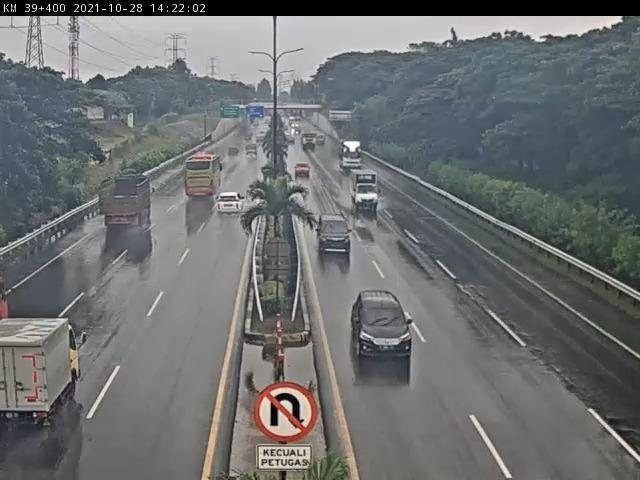bus: (184, 156, 224, 203)
car: (350, 288, 417, 362), (317, 213, 354, 254), (213, 193, 246, 218), (293, 160, 313, 178)
truck: (1, 314, 81, 426), (101, 177, 154, 230), (350, 170, 382, 213)
